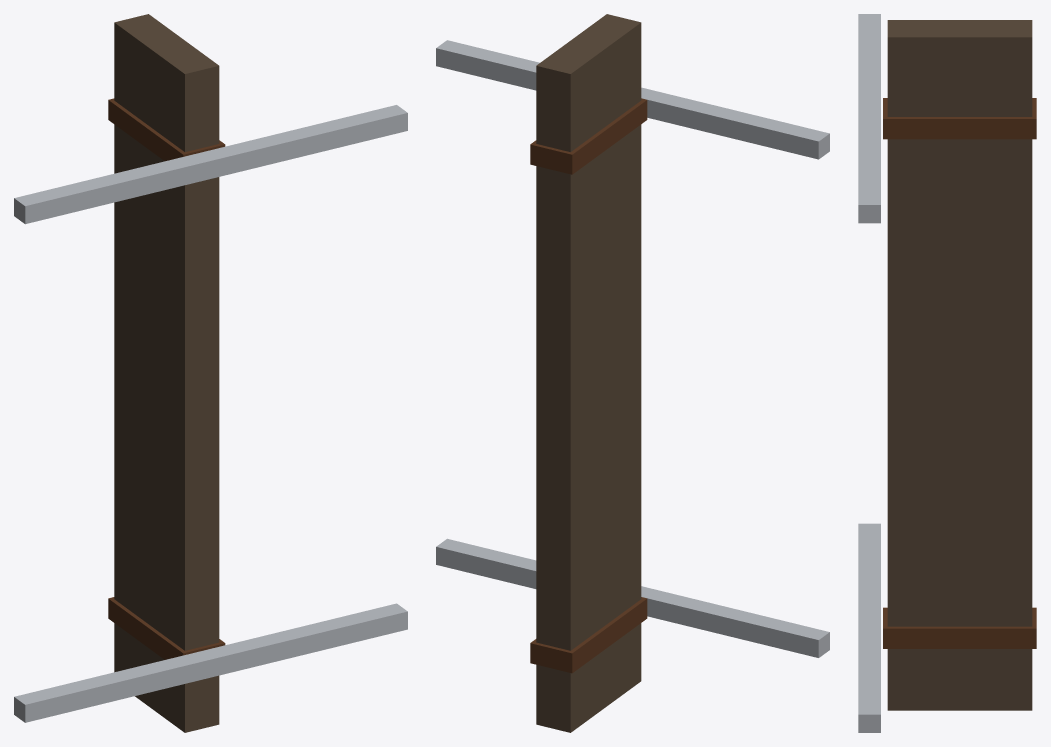
The model's file is rack_frame.glb.
The picture shows the model from 3 angles, left to right: view 1: azimuth 30°, elevation 25°; view 2: azimuth 150°, elevation 25°; view 3: azimuth 270°, elevation 25°; orthographic projection. The views are drawn at different scales.
Parts seen in each view (by area): view 1: HudRack_PostLWood, HudRack_RailBottomBar, HudRack_RailTopBar, HudRack_PostLStrap0, HudRack_PostLStrap1; view 2: HudRack_PostLWood, HudRack_RailTopBar, HudRack_RailBottomBar, HudRack_PostLStrap0, HudRack_PostLStrap1; view 3: HudRack_PostLWood, HudRack_RailBottomBar, HudRack_RailTopBar, HudRack_PostLStrap0, HudRack_PostLStrap1.
Part boxes in pixels (x1=…): HudRack_PostLWood: x1=114, y1=14, x2=219, y2=732; HudRack_RailBottomBar: x1=14, y1=603, x2=407, y2=722; HudRack_RailTopBar: x1=14, y1=105, x2=407, y2=224; HudRack_PostLStrap0: x1=108, y1=597, x2=225, y2=659; HudRack_PostLStrap1: x1=108, y1=98, x2=225, y2=161; HudRack_PostLWood: x1=536, y1=14, x2=641, y2=732; HudRack_RailTopBar: x1=436, y1=40, x2=829, y2=159; HudRack_RailBottomBar: x1=436, y1=538, x2=829, y2=657; HudRack_PostLStrap0: x1=530, y1=597, x2=647, y2=673; HudRack_PostLStrap1: x1=530, y1=98, x2=647, y2=174; HudRack_PostLWood: x1=887, y1=20, x2=1032, y2=710; HudRack_RailBottomBar: x1=858, y1=523, x2=880, y2=732; HudRack_RailTopBar: x1=858, y1=14, x2=880, y2=223; HudRack_PostLStrap0: x1=883, y1=607, x2=1036, y2=648; HudRack_PostLStrap1: x1=883, y1=98, x2=1036, y2=139.
Size of the model in its own units: 1 by 1.64 by 0.395.
